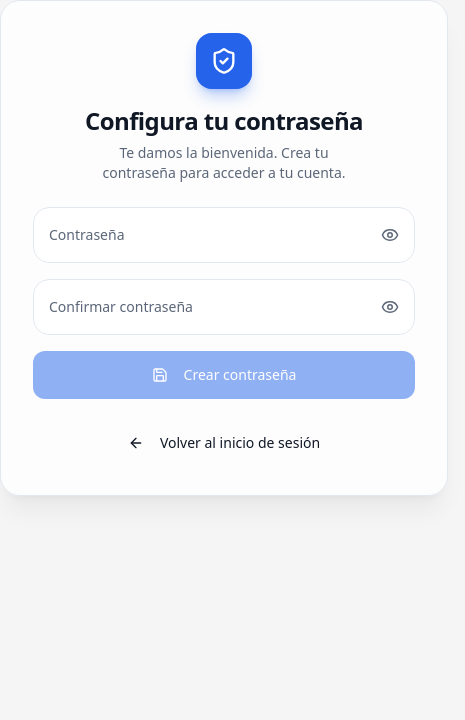
Test: Configura tu contraseña (/reset-password?welcome=1) › ante un 404 (enlace vencido o usado) ofrece pedir uno nuevo
In the password field labelled "Contraseña": (224, 235) [33,207,415,263], type "AdminClinica2026!"
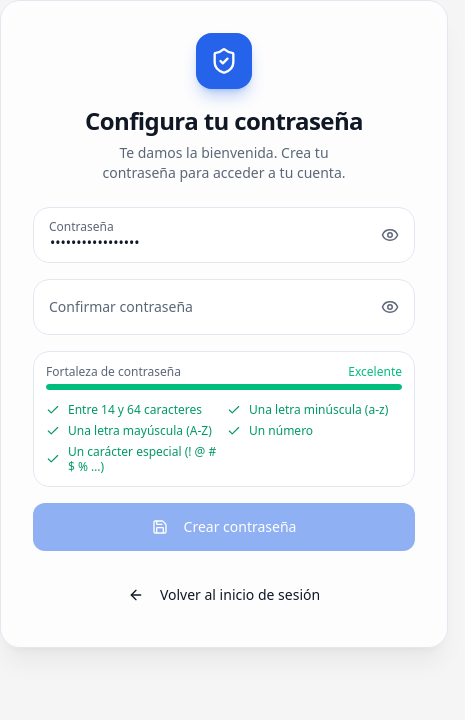
In the password field labelled "Confirmar contraseña": (224, 307) [33,279,415,335], type "AdminClinica2026!"
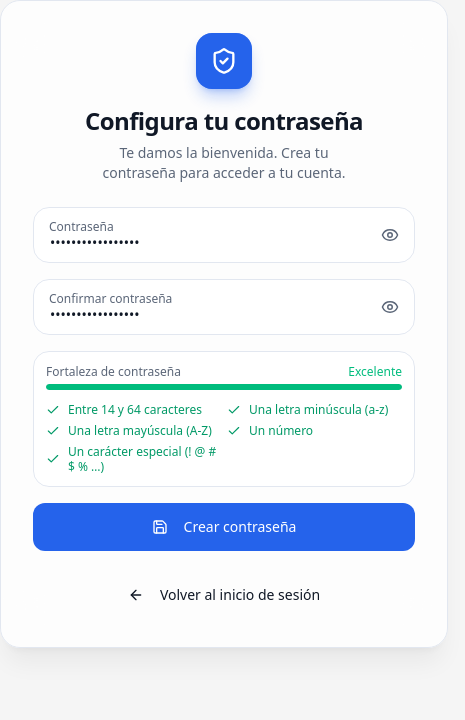
Click the button "Crear contraseña": click(224, 527) [33,503,415,551]
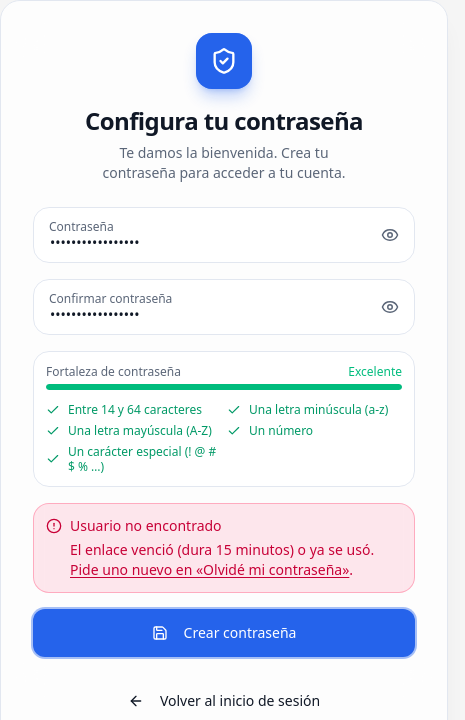
Now the message shows "Usuario no encontrado", box [70,516,222,535]
